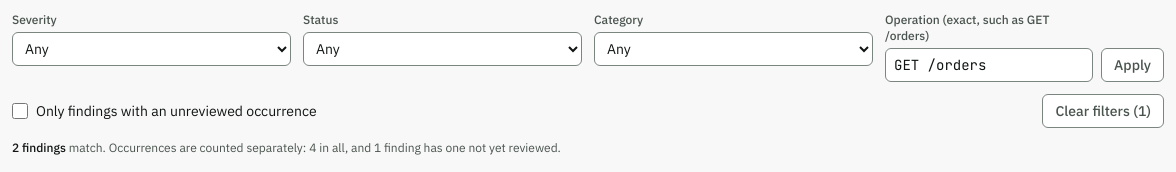
Test: FindingFilters (T122, FR-054, FR-058) › resets the operation field when the filter is cleared elsewhere
This screenshot has width=1176, height=172.
expect the field labelled "Operation (exact, such as GET /orders)" holds "GET /orders": met, box [885,48,1093,82]
Click the button "Clear filters (1)" at (1103, 111), box [1042,94,1164,128]
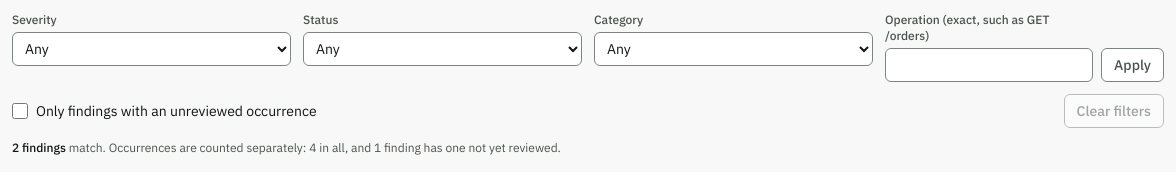
expect the field labelled "Operation (exact, such as GET /orders)" is empty: met, box [885,48,1093,82]
